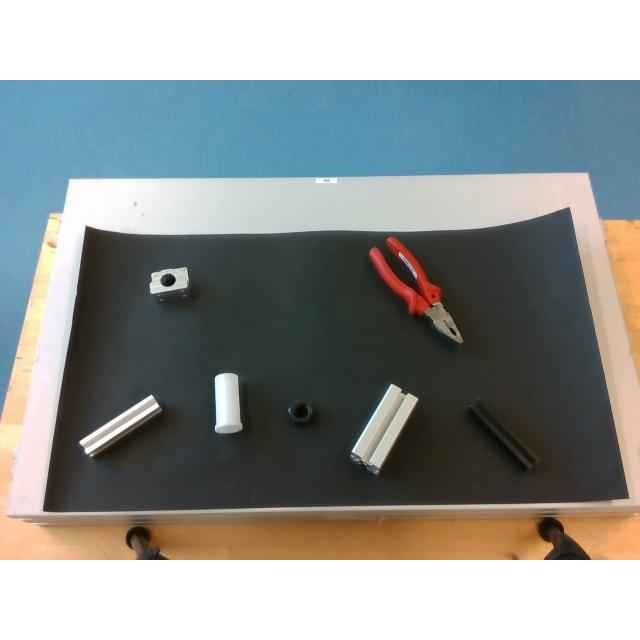F20_20_B: (468, 396, 540, 468)
F20_20_G: (79, 396, 161, 456)
M20: (288, 399, 312, 423)
S40_40_G: (351, 386, 417, 474)
Spacer: (214, 373, 242, 433)
